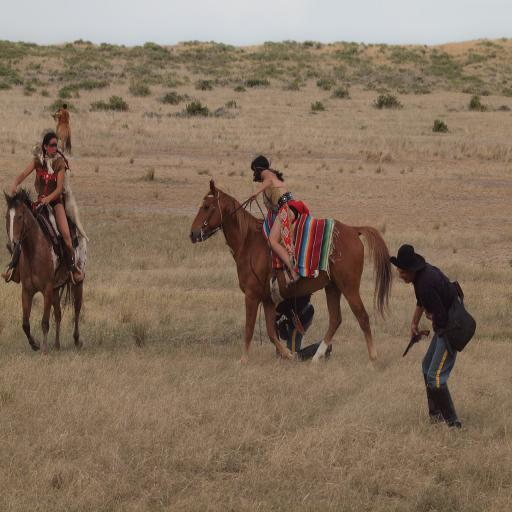Horse: (189, 180, 396, 372), (4, 187, 84, 353), (52, 111, 72, 152)
